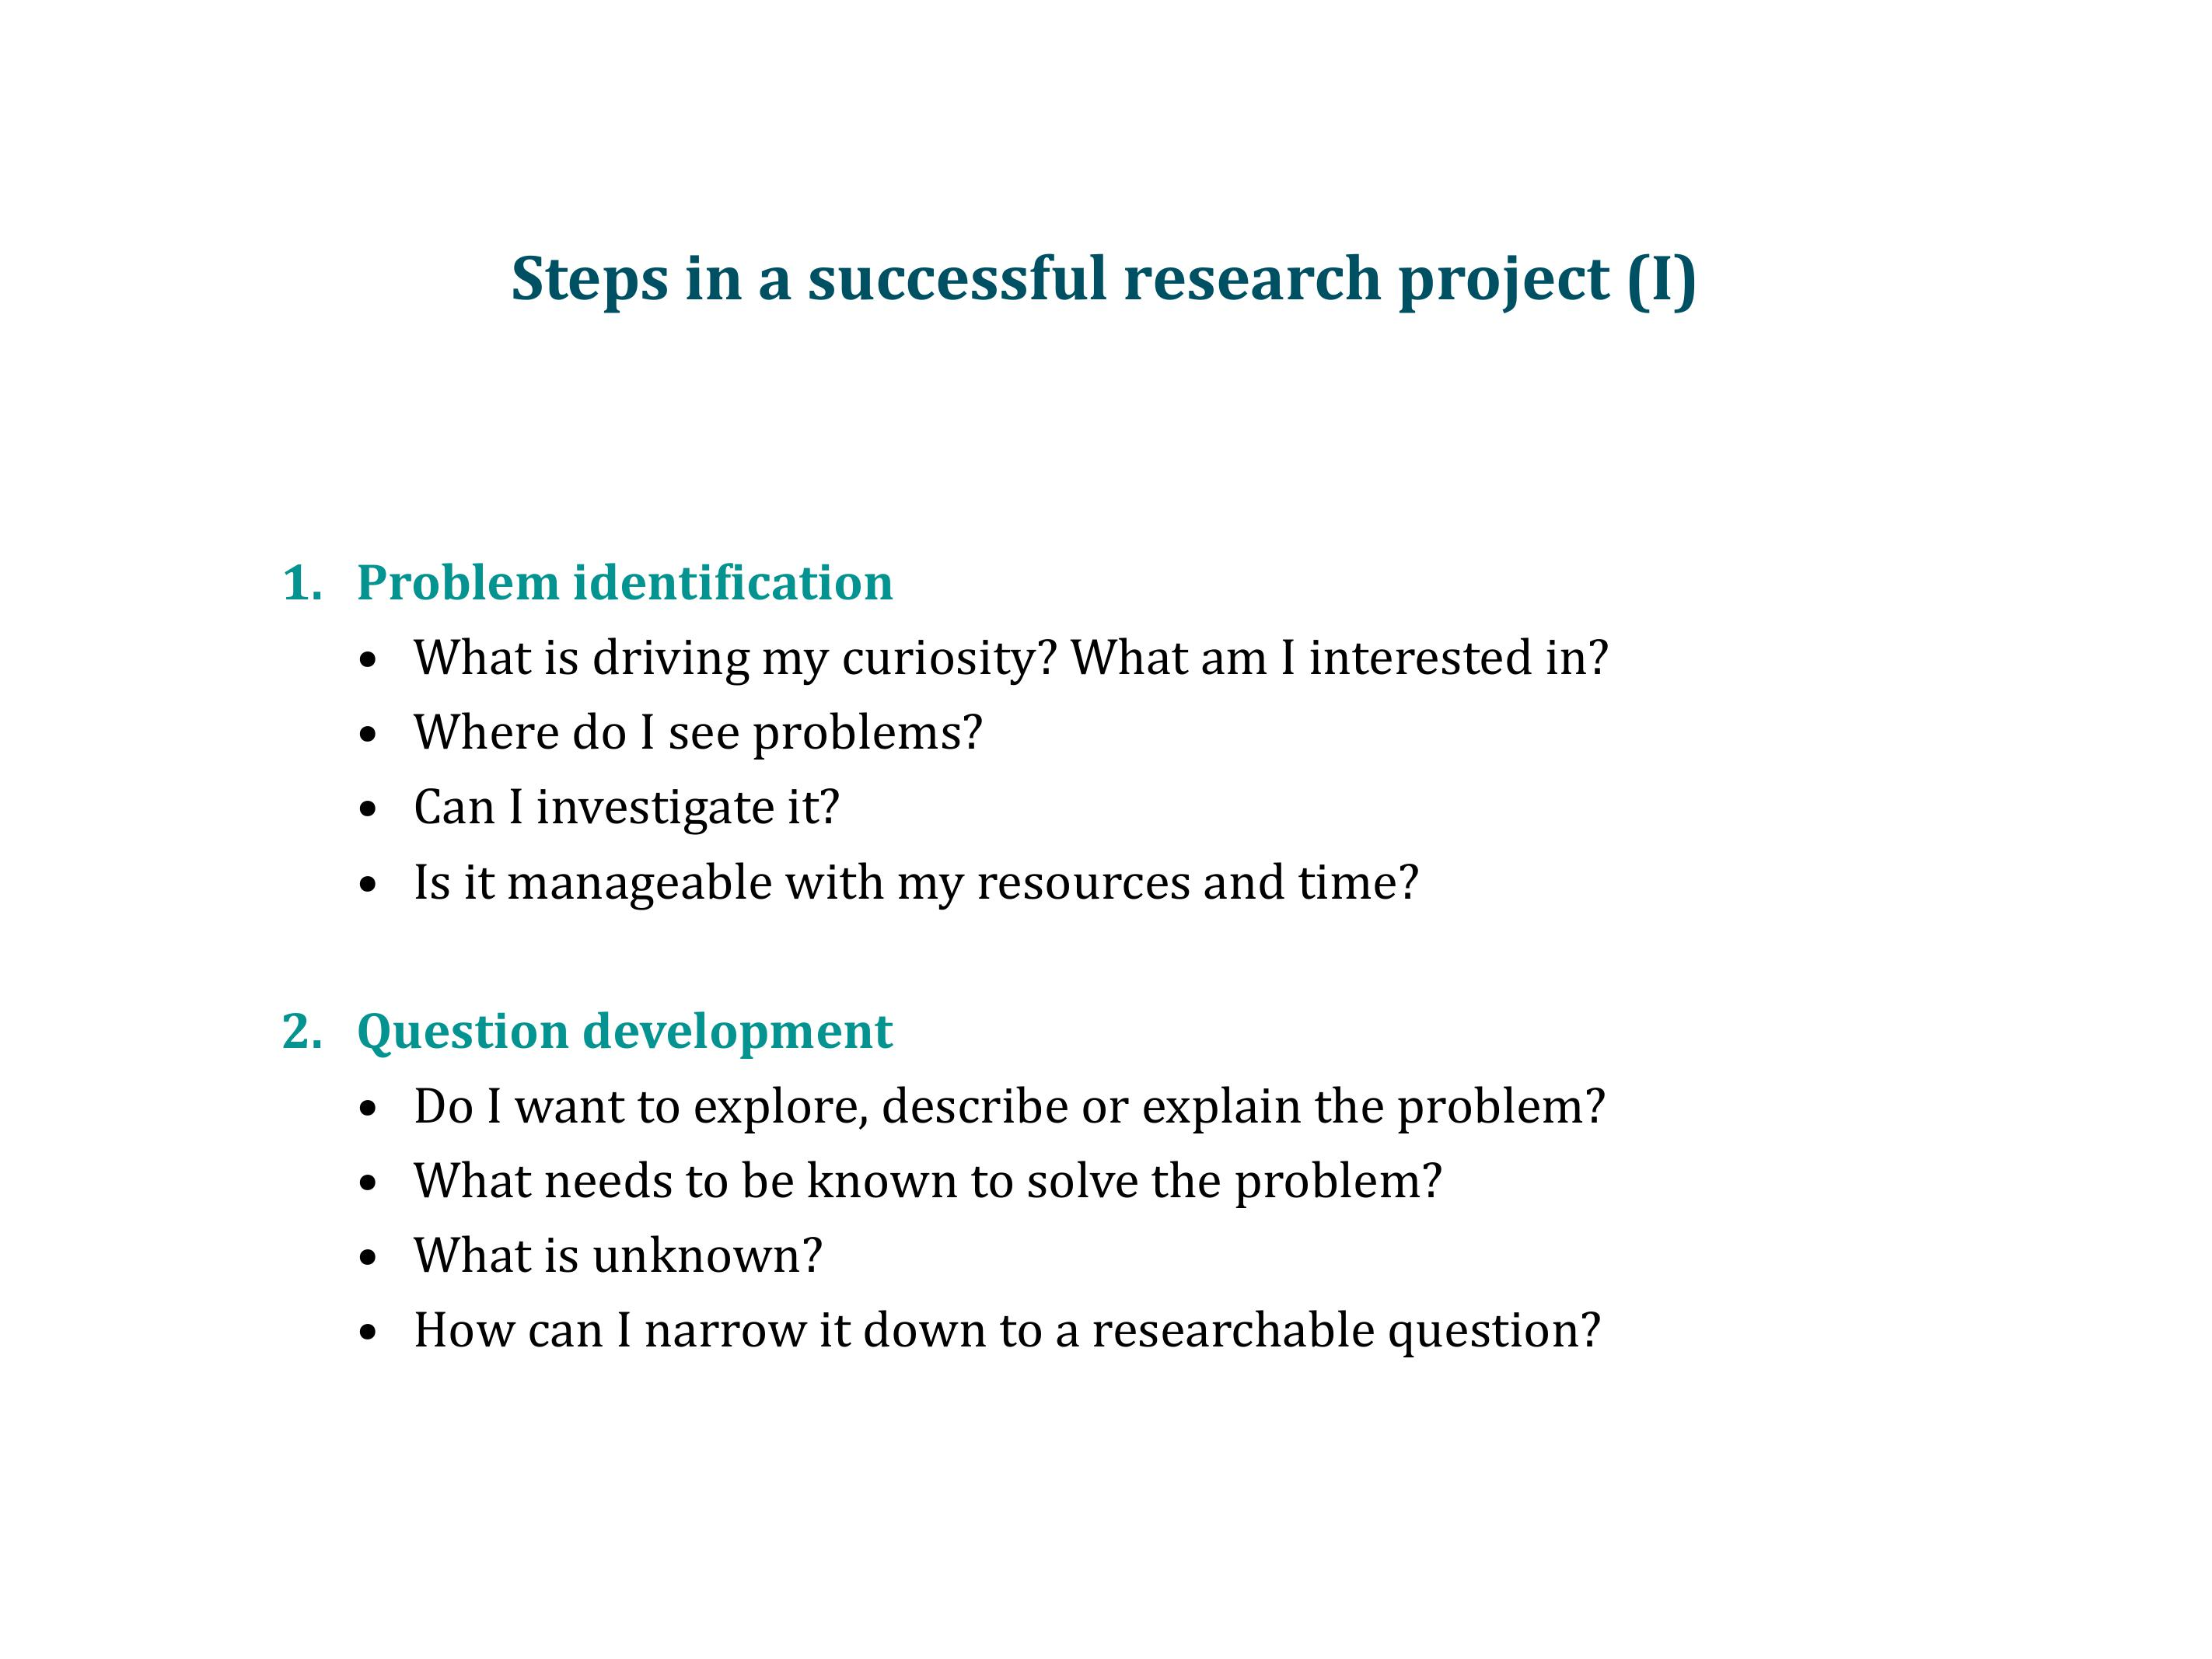Title: (506, 225, 1712, 328)
